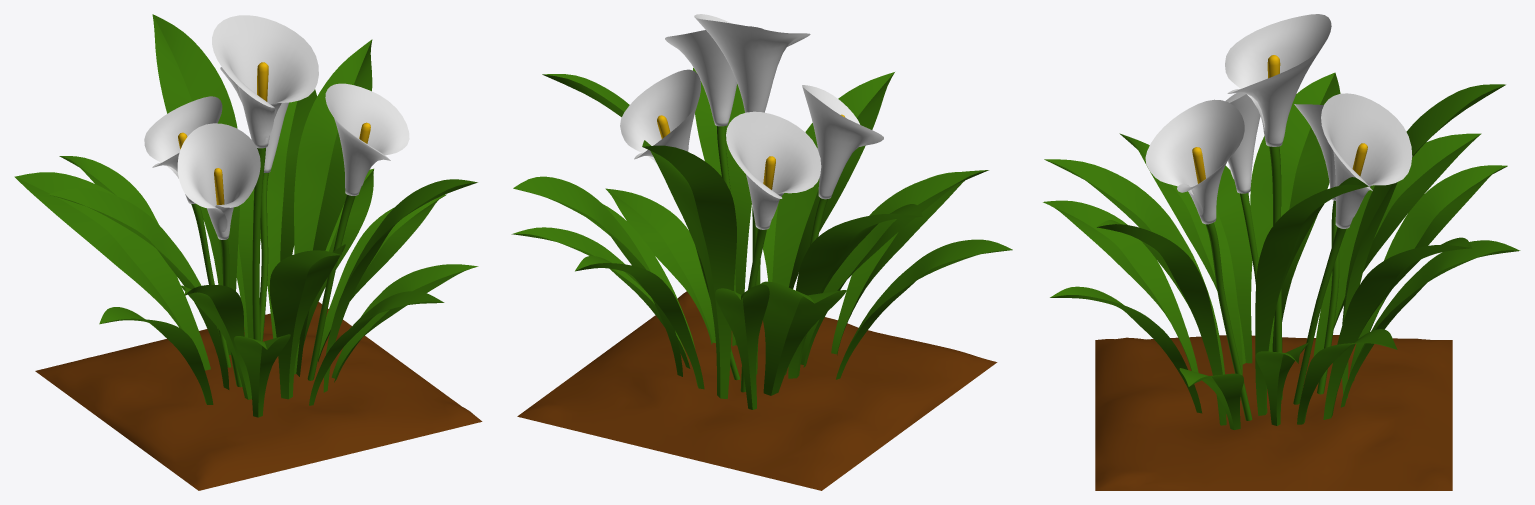
The model's file is white-calla.glb.
The picture shows the model from 3 angles, left to right: view 1: azimuth 30°, elevation 25°; view 2: azimuth 150°, elevation 25°; view 3: azimuth 270°, elevation 25°; orthographic projection. The views are drawn at different scales.
Visible parts, largest first — view 1: 4_nft_bloom; view 2: 4_nft_bloom; view 3: 4_nft_bloom.
Part boxes in pixels (bbox=[...]): 4_nft_bloom: bbox=[14, 14, 482, 490]; 4_nft_bloom: bbox=[511, 14, 1012, 490]; 4_nft_bloom: bbox=[1043, 14, 1520, 490].
Size of the model in its own units: 0.9841 by 0.8496 by 0.938.
